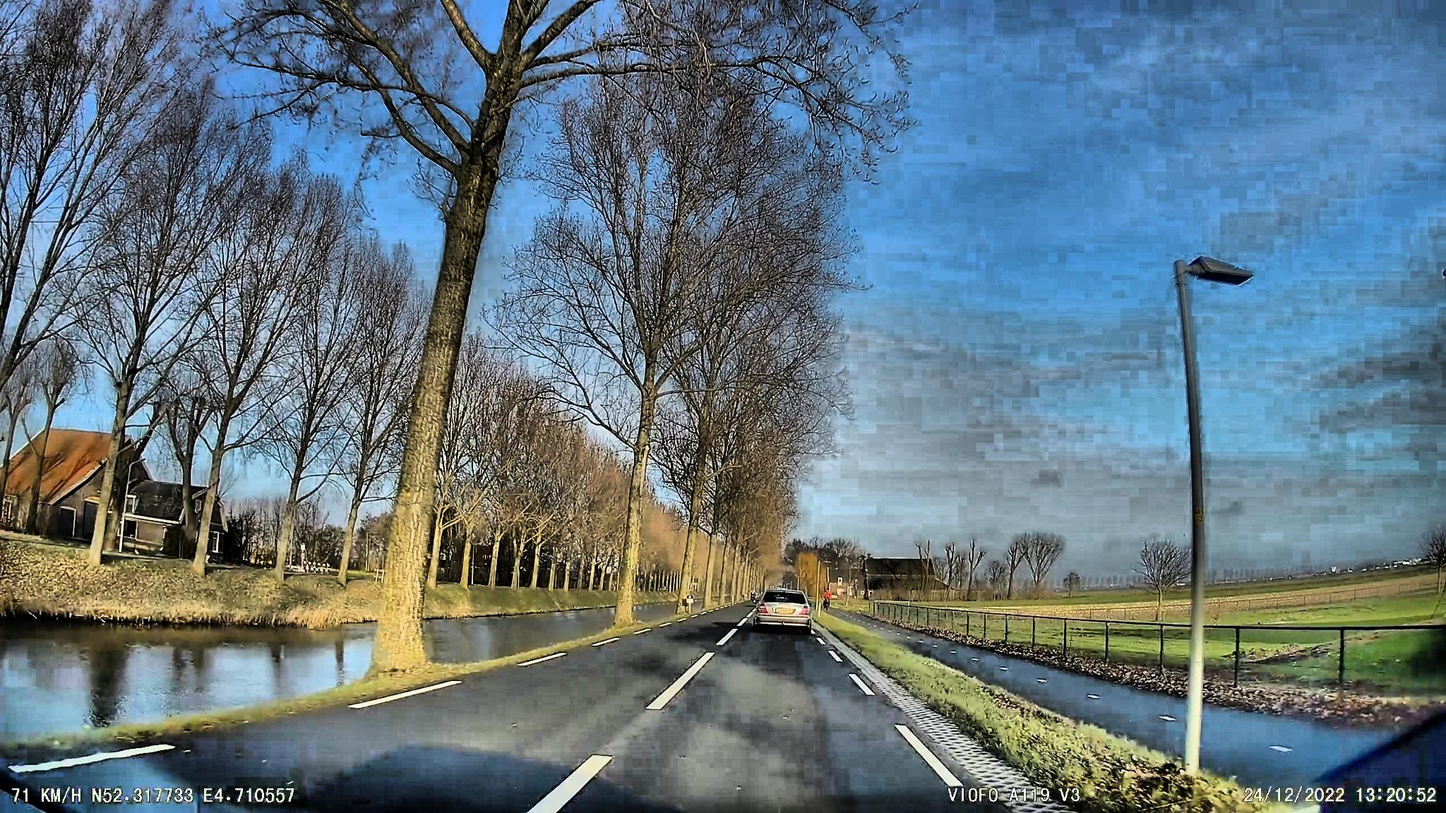Roads: (0, 613, 1088, 813)
